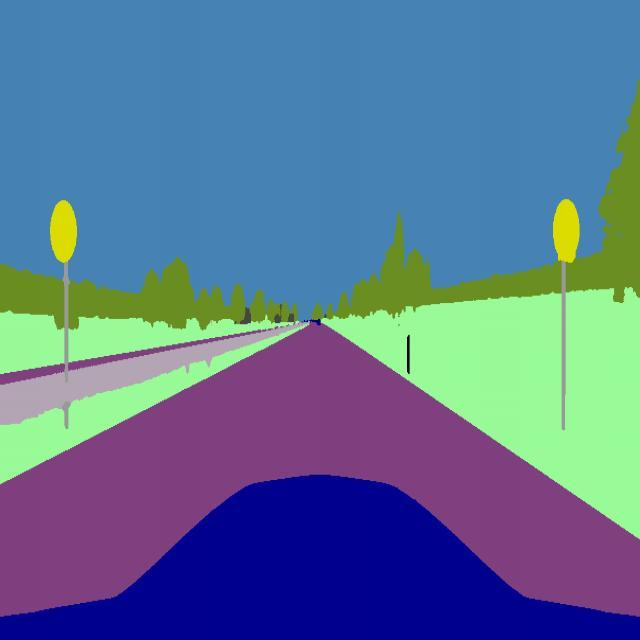safe: (316, 320, 324, 328)
